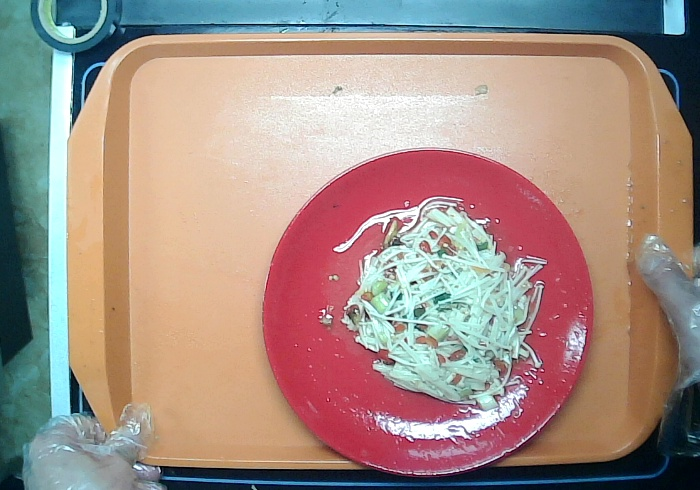HZYJPL-Hong_Se_Yuan_Pan: (260, 145, 594, 479)
